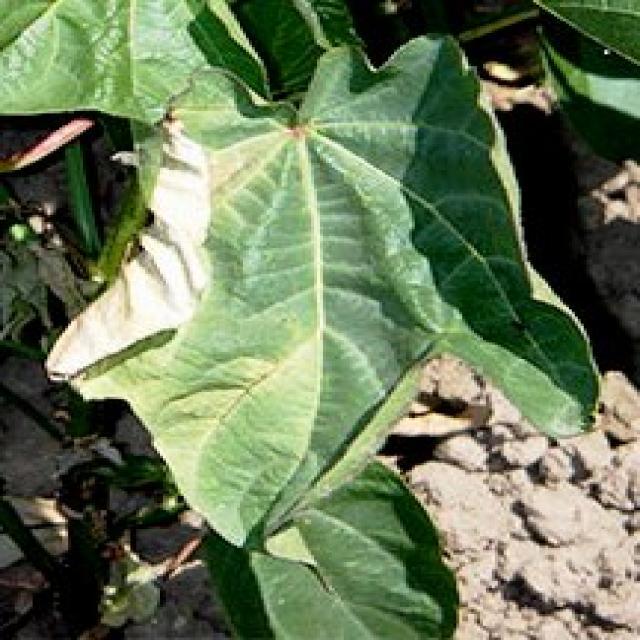Fusarium Wilt: (12, 26, 595, 640)
